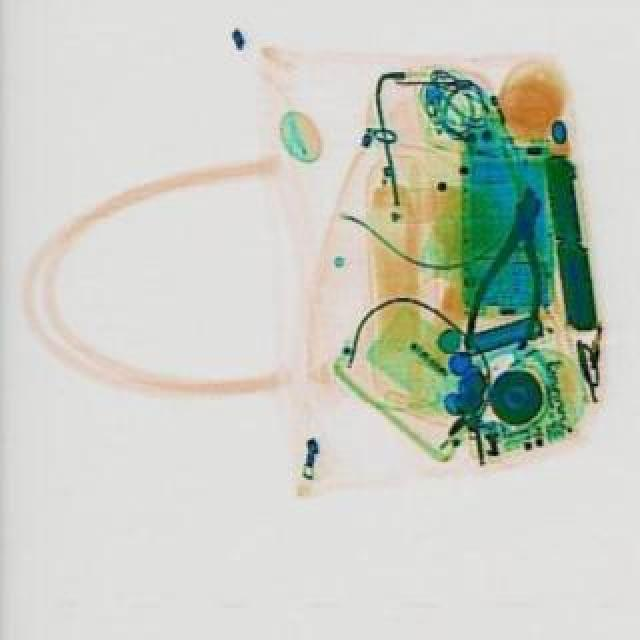wrench: (458, 176, 566, 360)
